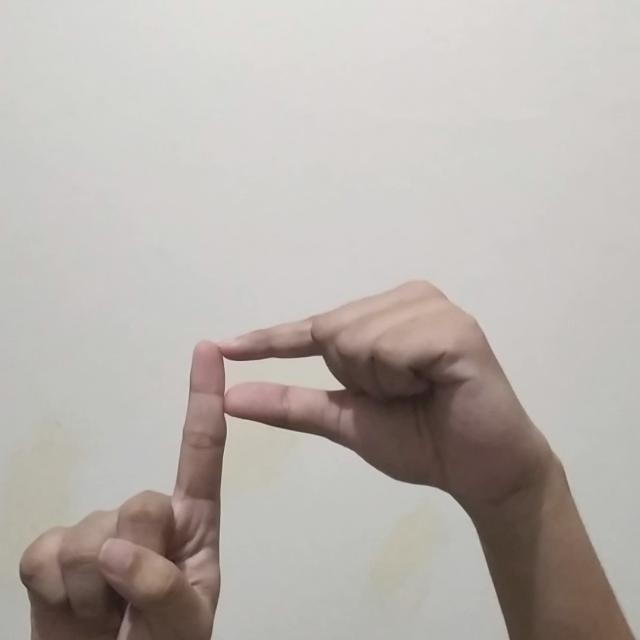P: (15, 248, 574, 628)
